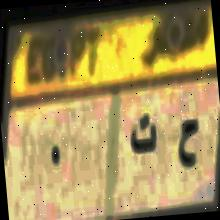0: (48, 139, 66, 168)
7aa: (174, 113, 202, 172)
taa: (125, 110, 160, 162)
